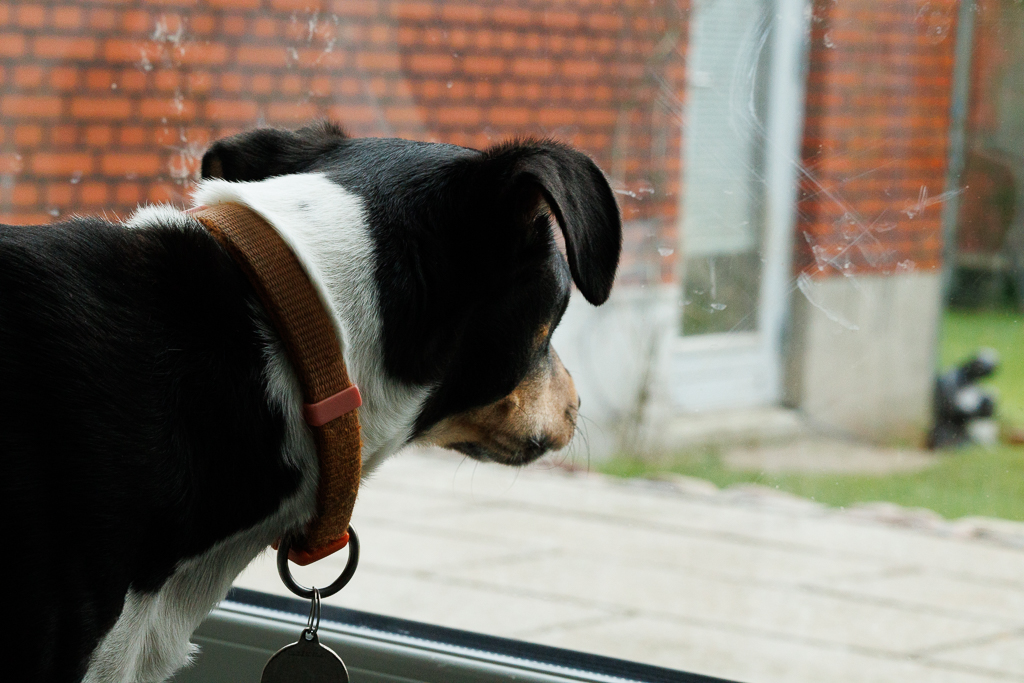Dog: (0, 111, 633, 683)
Humanoid: (911, 337, 1019, 471)
